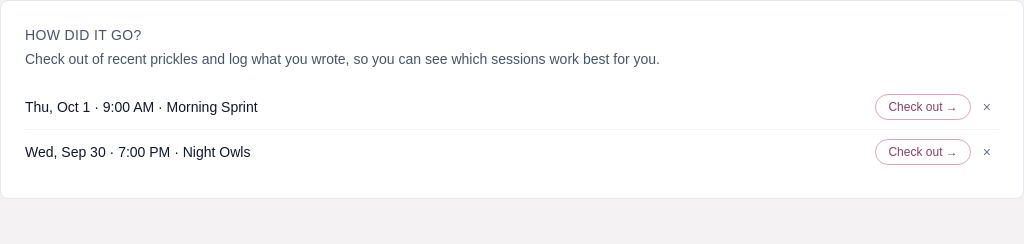
UnloggedPricklesCard › brings the prickle back with an error when the save fails
Click the button "×" in the row of "Thu, Oct 1 · 9:00 AM · Morning Sprint". click: [987, 107]
box: [975,93,999,121]
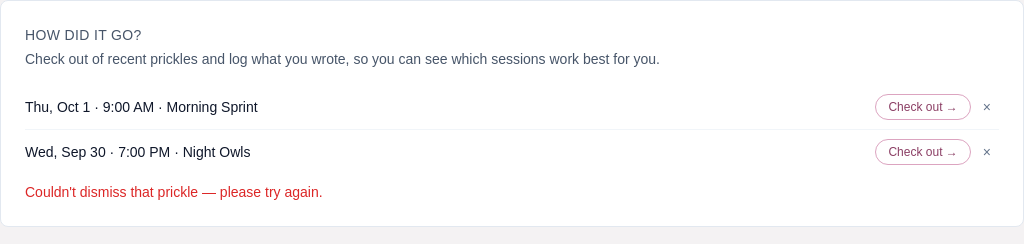
Expected: the link "Thu, Oct 1 · 9:00 AM · Morning Sprint" is shown, [25,97,258,117]
Result: the text "Couldn't dismiss that prickle — please try again." is shown at [25,184,323,200]
